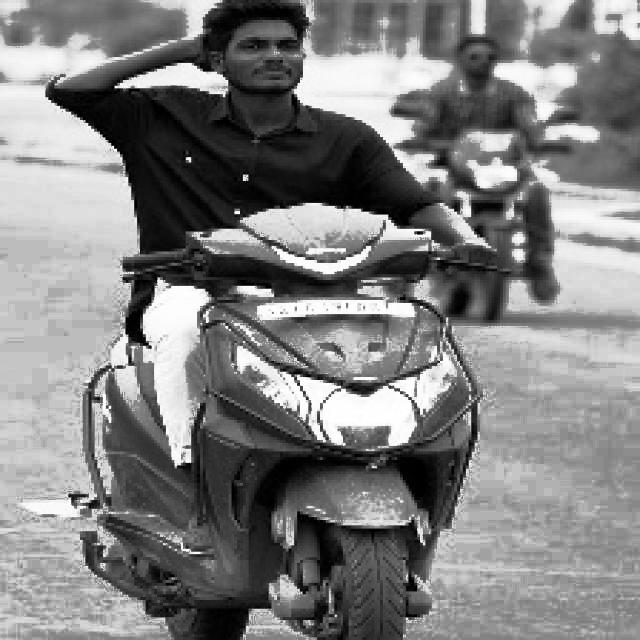Bike: (95, 212, 470, 638), (412, 118, 558, 306)
